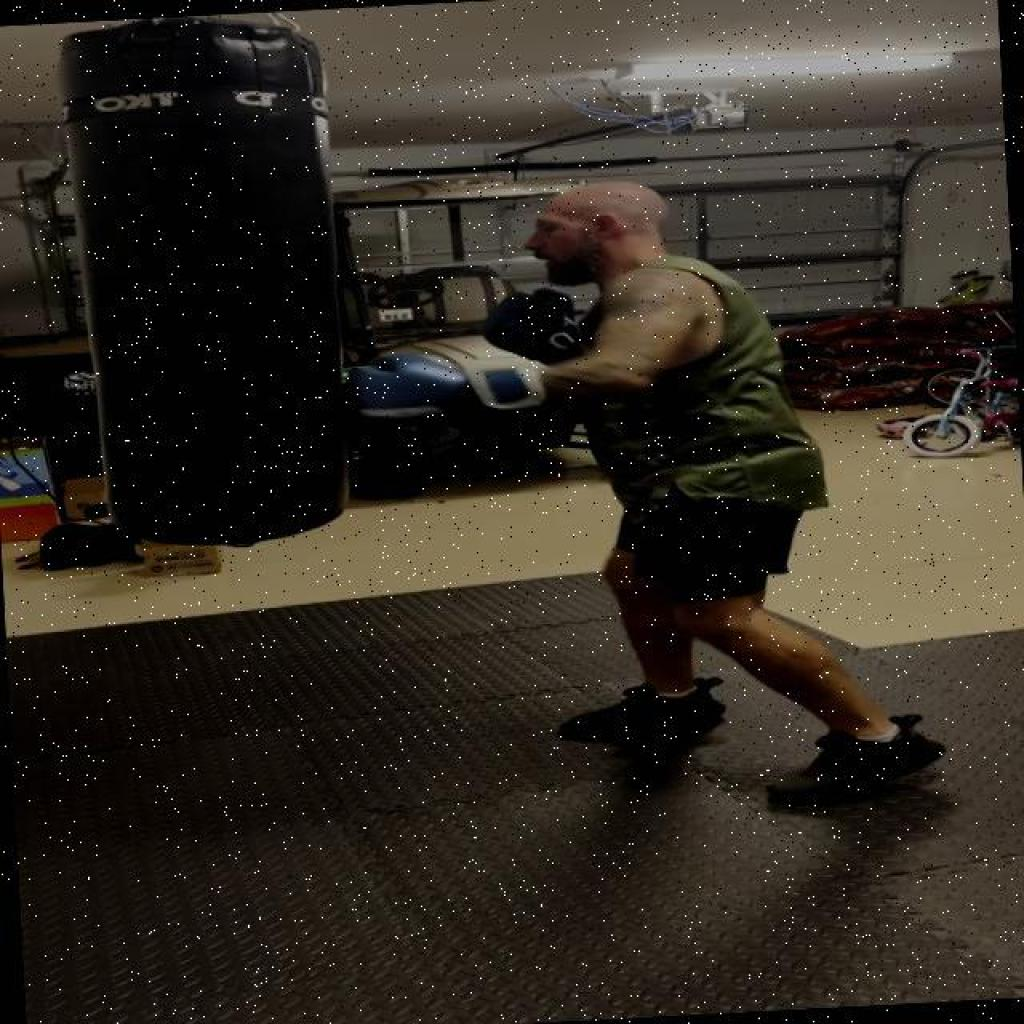bag: (46, 10, 372, 563)
hook: (272, 162, 734, 460)
